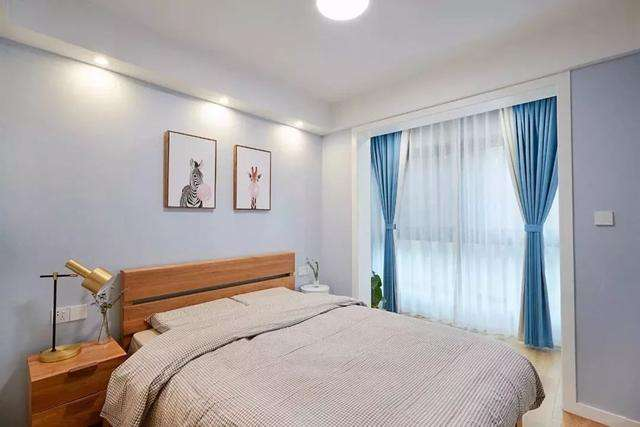床: (104, 295, 544, 427)
灯: (41, 262, 108, 353), (312, 0, 366, 26)
